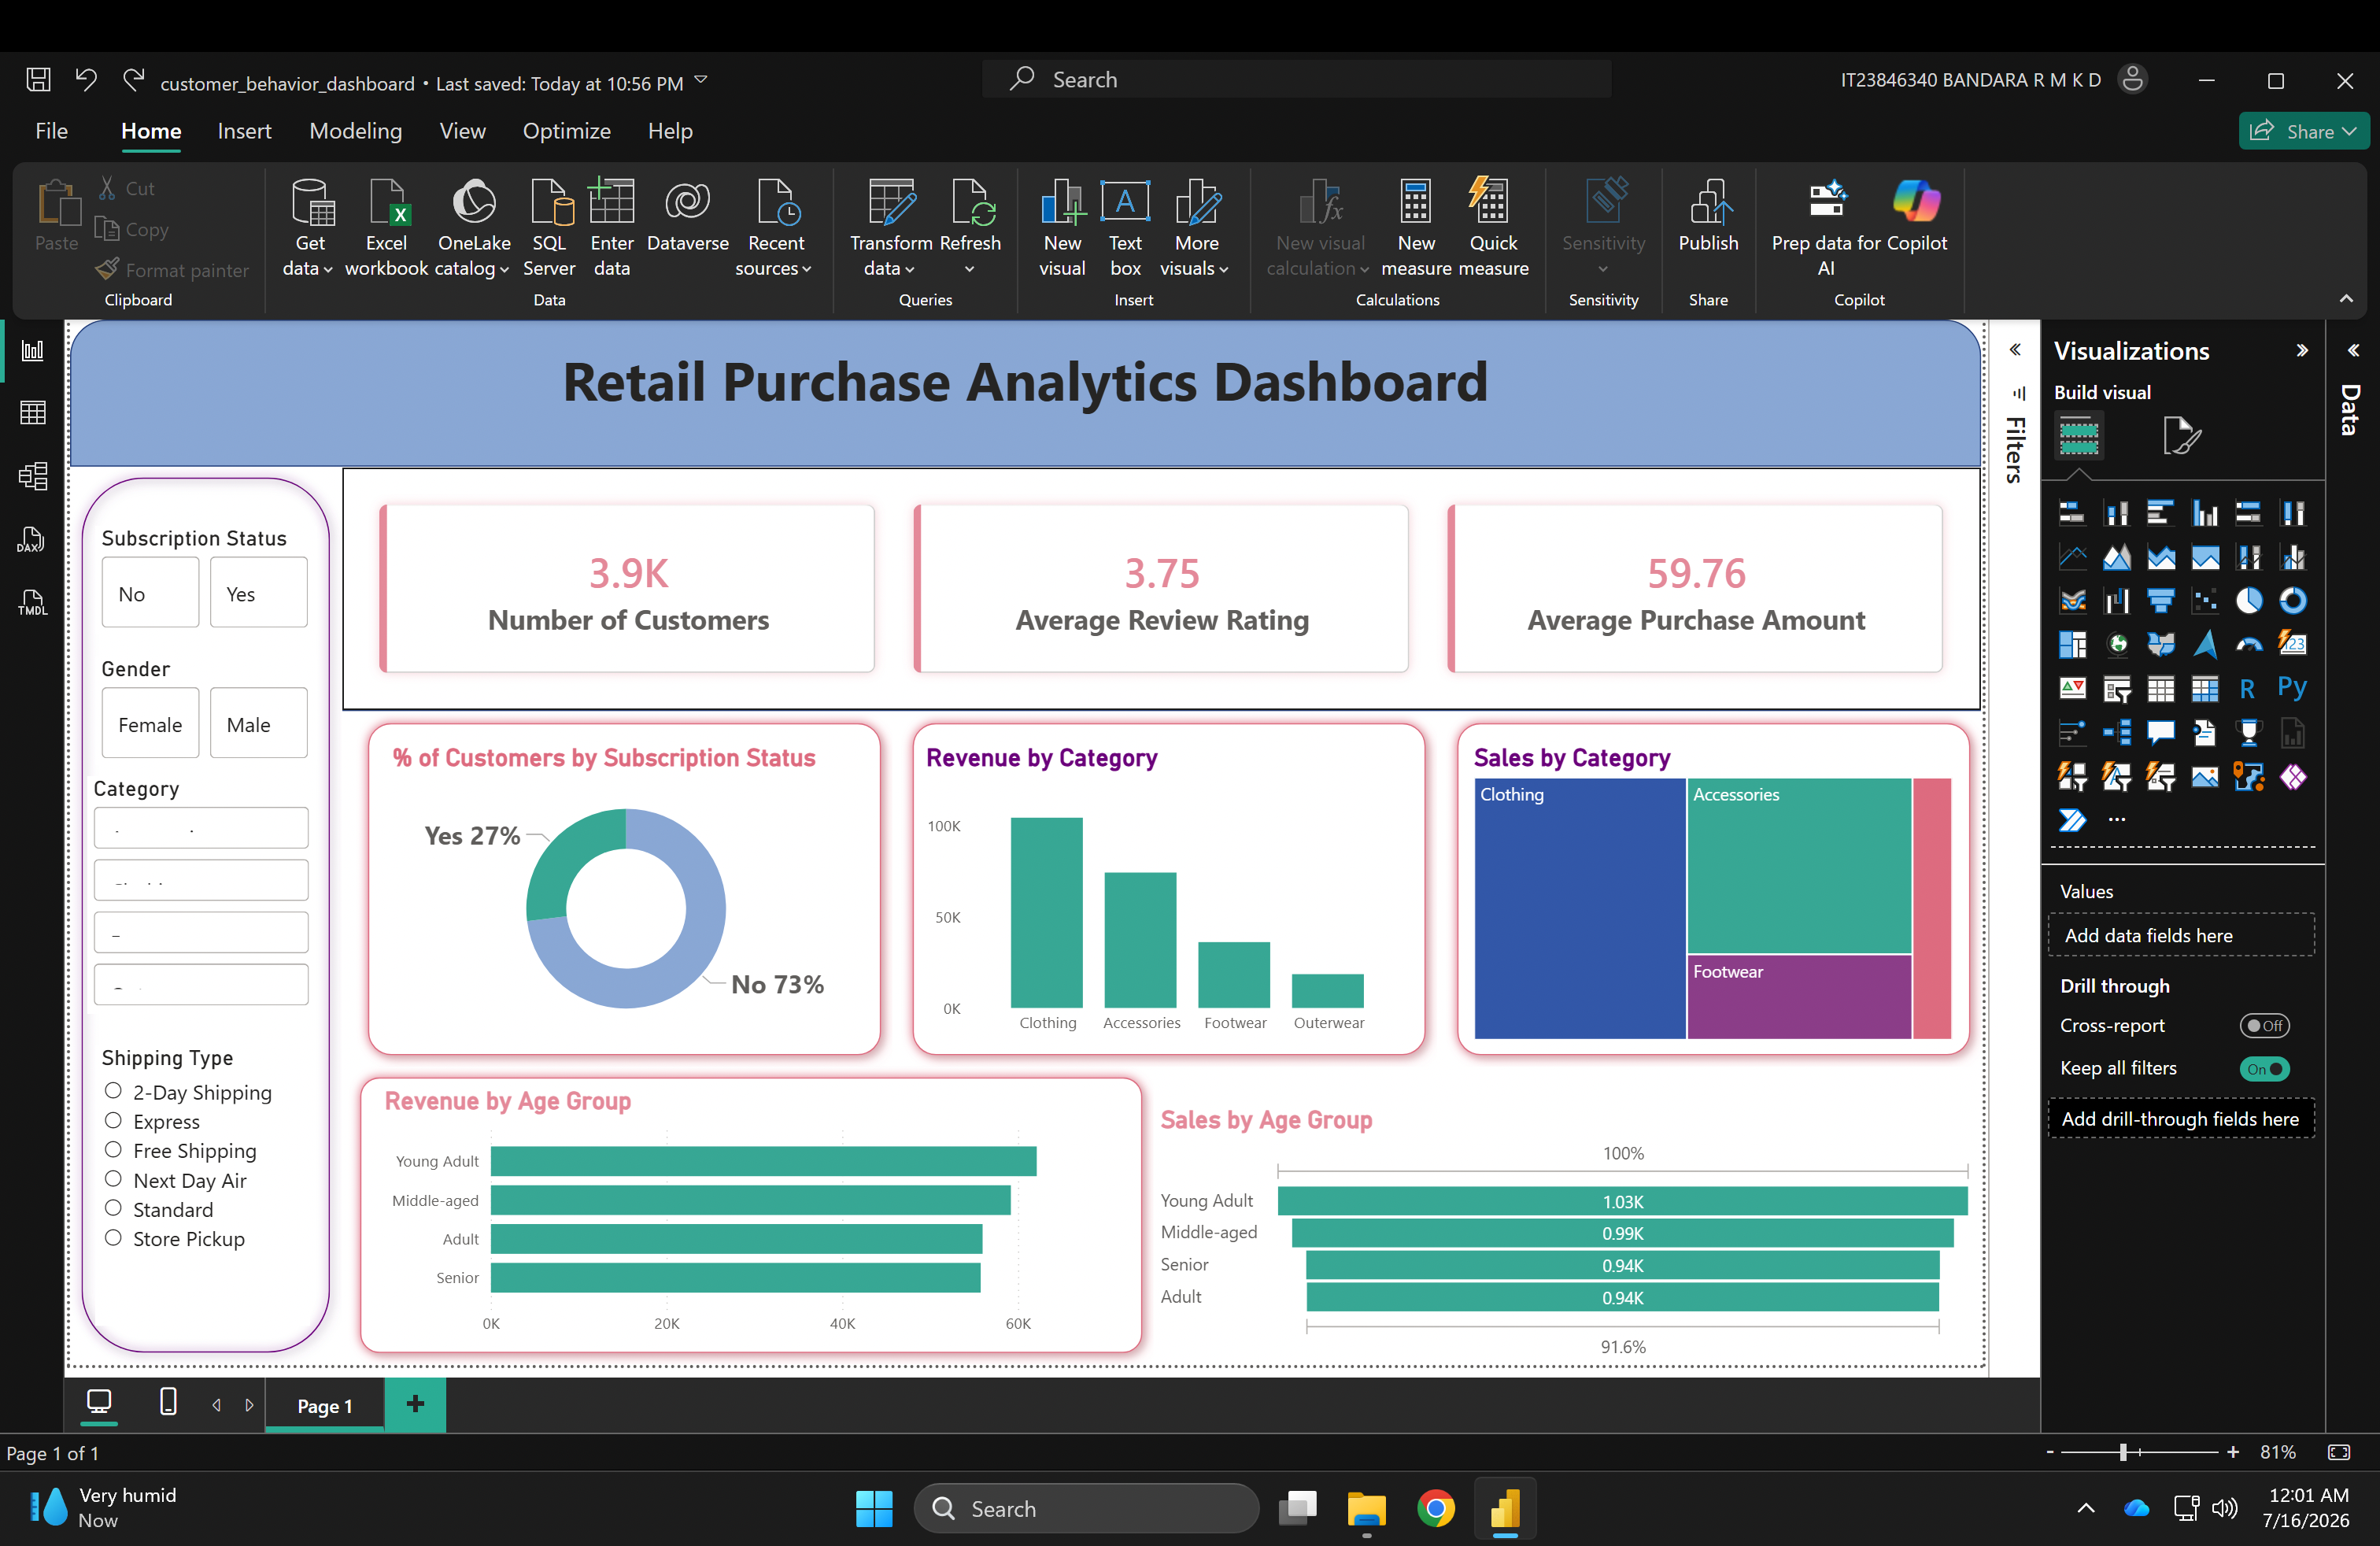

What the dashboard file says about the page in this screenshot:
{"tool":"powerbi","page":{"name":"Page 1","canvas":[1500,820],"ordinal":0},"visuals":[{"type":"cardVisual","fields":{"Data":["public customer.Number of Customers","public customer.Avarage Review rating","public customer.Avarage Purchase Amount"]},"box":[213.3,115.7,1285.3,191],"z":0},{"type":"shape","box":[0,0,1499.4,115.3],"z":1000},{"type":"textbox","box":[0,12.4,1499.4,102.9],"z":2000},{"type":"shape","box":[218.3,585.6,631.7,234.2],"z":2500,"group":"g1"},{"type":"shape","box":[225.4,307,420.5,278.6],"z":3000},{"type":"donutChart","title":"% of Customers by Subscription Status","fields":{"Category":["public customer.subscription_status"],"Y":["CountNonNull(public customer.customer_id)"]},"box":[248.4,331.8,376.2,237.8],"z":4000},{"type":"shape","box":[1078.9,307,420.5,278.6],"z":5000},{"type":"shape","box":[652.1,307,420.5,278.6],"z":6000},{"type":"clusteredColumnChart","title":"Revenue by Category","fields":{"Y":["Sum(public customer.purchase_amount)"],"Category":["public customer.category"]},"box":[667.2,331.8,385.1,237.8],"z":7000},{"type":"treemap","title":"Sales by Category","fields":{"Group":["public customer.category"],"Values":["CountNonNull(public customer.customer_id)"]},"box":[1096.6,331.8,385.1,237.8],"z":8000},{"type":"shape","box":[0,115.3,212.9,704.5],"z":9000},{"type":"advancedSlicerVisual","fields":{"Values":["public customer.subscription_status"]},"box":[19.5,161.5,173.9,85.2],"z":10000},{"type":"advancedSlicerVisual","fields":{"Values":["public customer.gender"]},"box":[19.5,264.4,173.9,85.2],"z":11000},{"type":"advancedSlicerVisual","fields":{"Values":["public customer.category"]},"box":[14.2,358.4,179.2,186.3],"z":12000},{"type":"listSlicer","fields":{"Values":["public customer.shipping_type"]},"box":[19.5,569.6,168.6,220],"z":13000},{"type":"funnel","title":"Sales by Age Group","fields":{"Category":["public customer.age_group"],"Y":["CountNonNull(public customer.customer_id)"]},"box":[850.4,616.2,648.2,203.5],"z":15000},{"type":"group","id":"g1","title":"Group 1","box":[218.3,585.6,631.7,234.2],"z":16000},{"type":"clusteredBarChart","title":"Revenue by Age Group","fields":{"Y":["Sum(public customer.purchase_amount)"],"Category":["public customer.age_group"]},"box":[241.4,601.6,585.6,204.1],"z":17500,"group":"g1"}]}

Visuals, with their boxes on the page's 1500x820 design canvas (x1, y1, x2, y2). These are canvas units, not pixel positions in the 2380x1546 screenshot, which may show the page scaled, cropped or inside an application window:
cardVisual - public customer.Number of Customers x public customer.Avarage Review rating: bbox=[213, 116, 1499, 307]
shape: bbox=[0, 0, 1499, 115]
textbox: bbox=[0, 12, 1499, 115]
shape: bbox=[218, 586, 850, 820]
shape: bbox=[225, 307, 646, 586]
"% of Customers by Subscription Status" donutChart: bbox=[248, 332, 625, 570]
shape: bbox=[1079, 307, 1499, 586]
shape: bbox=[652, 307, 1073, 586]
"Revenue by Category" clusteredColumnChart: bbox=[667, 332, 1052, 570]
"Sales by Category" treemap: bbox=[1097, 332, 1482, 570]
shape: bbox=[0, 115, 213, 820]
advancedSlicerVisual - public customer.subscription_status: bbox=[20, 162, 193, 247]
advancedSlicerVisual - public customer.gender: bbox=[20, 264, 193, 350]
advancedSlicerVisual - public customer.category: bbox=[14, 358, 193, 545]
listSlicer - public customer.shipping_type: bbox=[20, 570, 188, 790]
"Sales by Age Group" funnel: bbox=[850, 616, 1499, 820]
"Group 1" group: bbox=[218, 586, 850, 820]
"Revenue by Age Group" clusteredBarChart: bbox=[241, 602, 827, 806]
